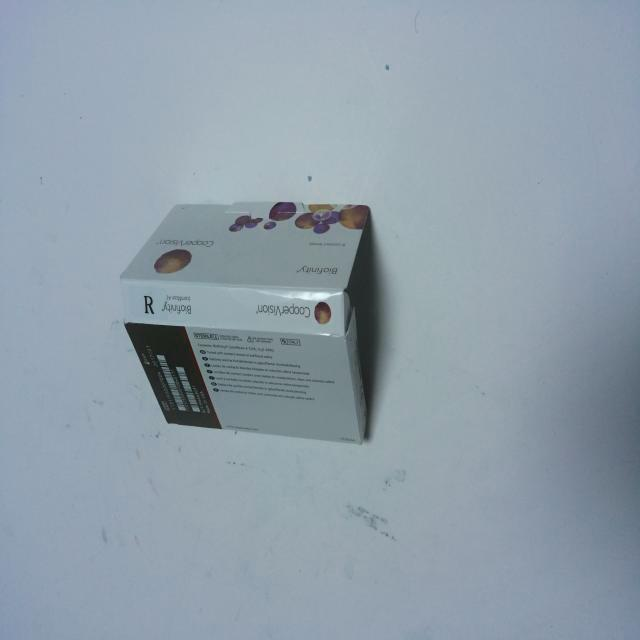paper: (96, 167, 414, 471)
